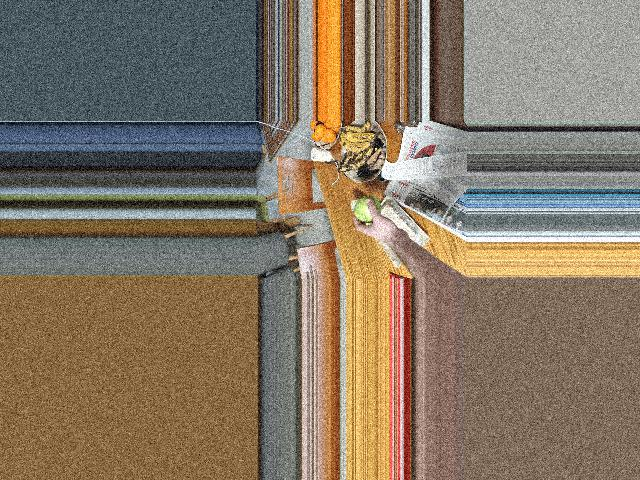apple: (351, 196, 386, 226)
